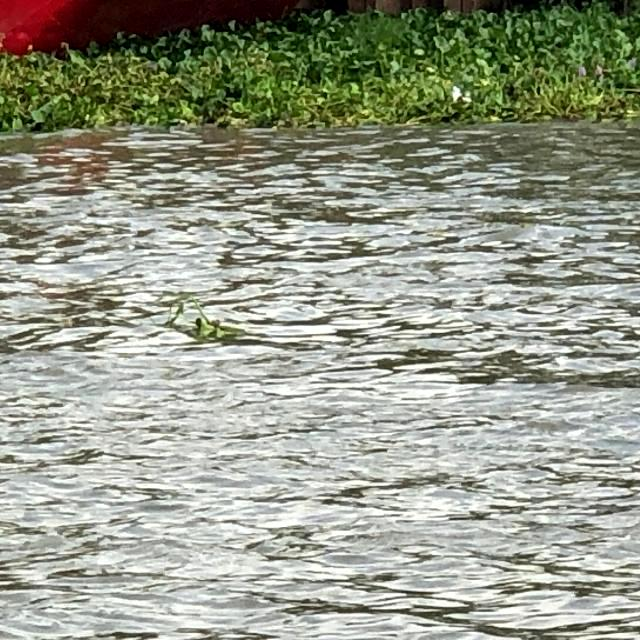water-hyacinth: (3, 13, 640, 133), (157, 295, 242, 342)
